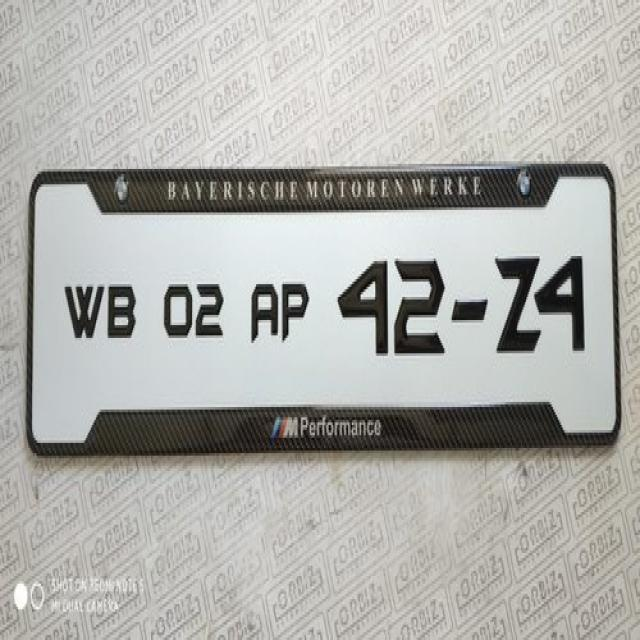plate: (28, 164, 620, 450)
